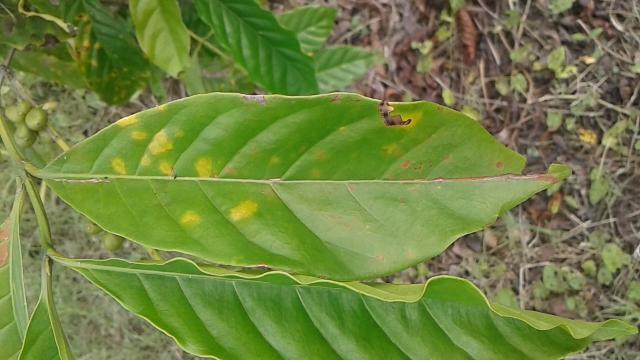rust_level_2: (42, 92, 574, 282)
